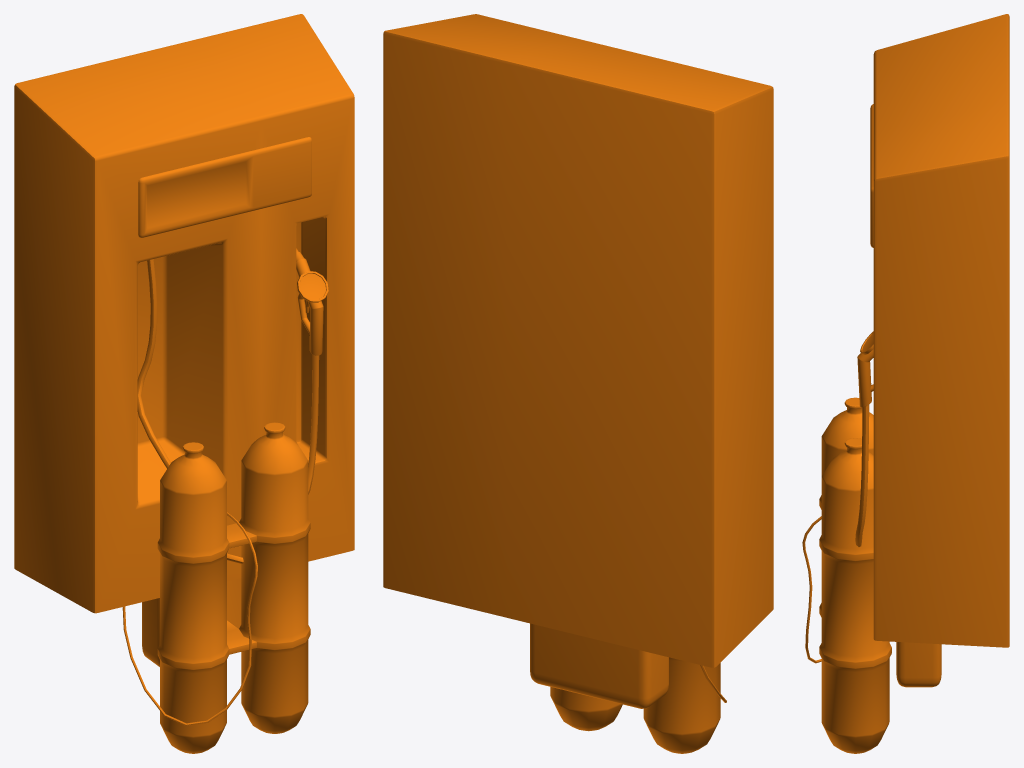
The model's file is SM_Oxygen.fbx.
3 views of the same model, side by side, from view 1: azimuth 30°, elevation 25°; view 2: azimuth 150°, elevation 25°; view 3: azimuth 270°, elevation 25° (orthographic). The views are drawn at different scales.
Parts seen in each view (by area): view 1: Oxygen_Station_lp, Oxygen_Backpack_lp; view 2: Oxygen_Station_lp, Oxygen_Backpack_lp; view 3: Oxygen_Station_lp, Oxygen_Backpack_lp.
Part boxes in pixels (x1,y1,x2,y2): Oxygen_Station_lp: (14, 14, 354, 613); Oxygen_Backpack_lp: (122, 422, 310, 753); Oxygen_Station_lp: (383, 14, 773, 667); Oxygen_Backpack_lp: (530, 623, 726, 753); Oxygen_Station_lp: (855, 14, 1009, 647); Oxygen_Backpack_lp: (802, 397, 941, 753).
Bounding box in the file's own units: 9.98 × 20.98 × 6.1.
